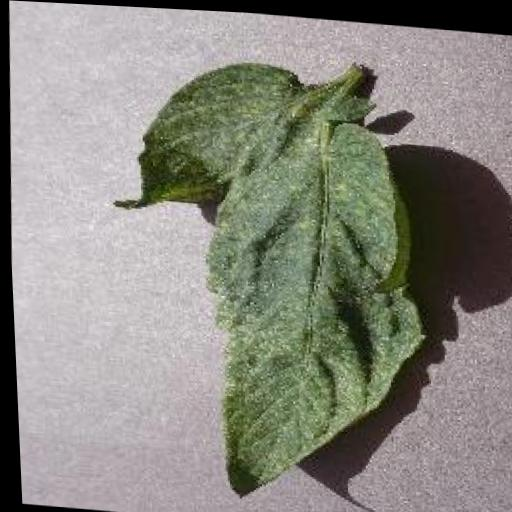Spider Mites: (95, 49, 438, 509)
